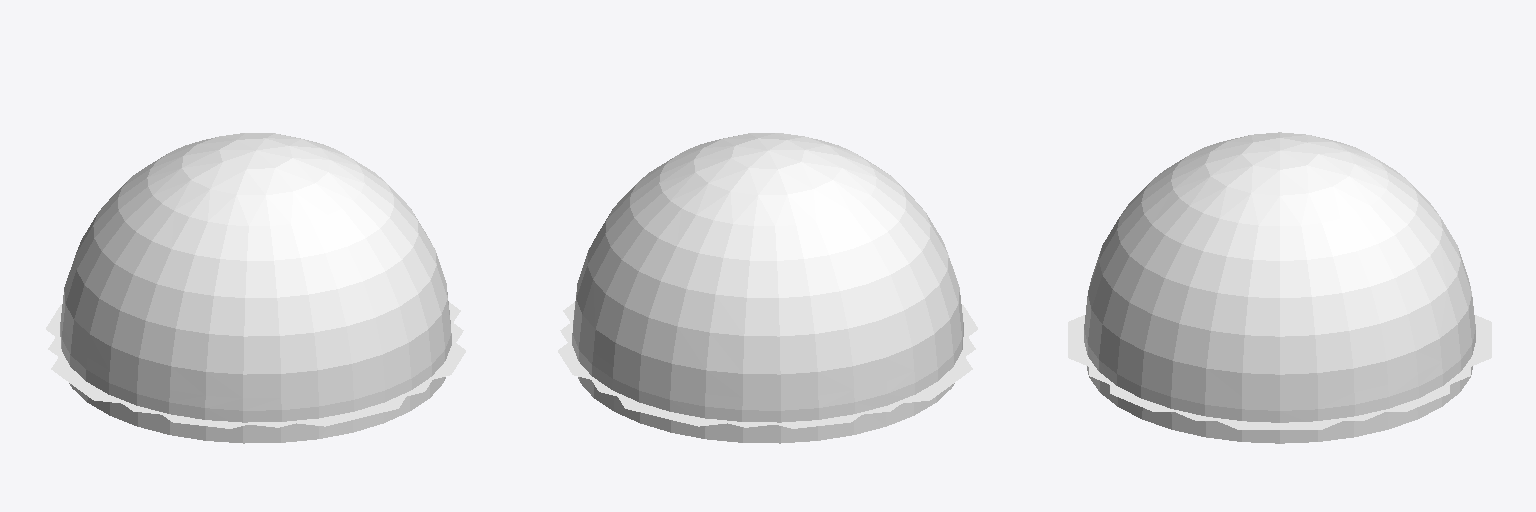
3 views of the same model, side by side, from view 1: azimuth 30°, elevation 25°; view 2: azimuth 150°, elevation 25°; view 3: azimuth 270°, elevation 25° (orthographic).
Parts seen in each view (by area): view 1: body; view 2: body; view 3: body.
Boxes of the visible parts, x1=… form: body: x1=46, y1=133, x2=465, y2=443; body: x1=558, y1=133, x2=977, y2=443; body: x1=1068, y1=132, x2=1491, y2=443.
Size of the model in its own units: 650 by 356 by 650.